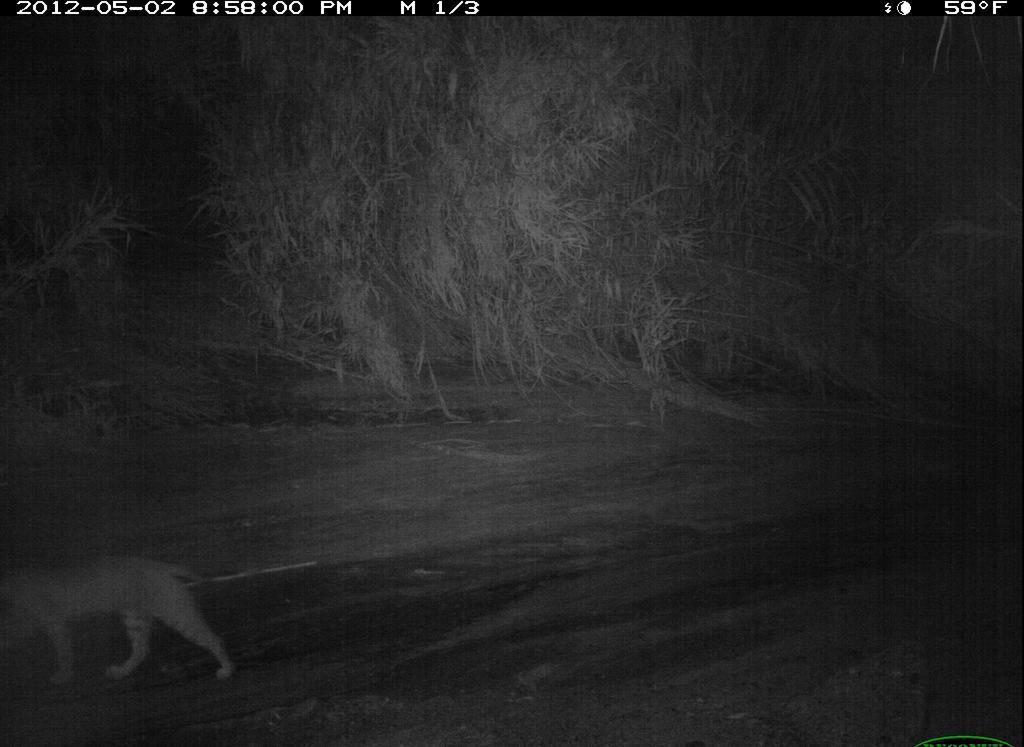bobcat: (2, 537, 242, 720)
